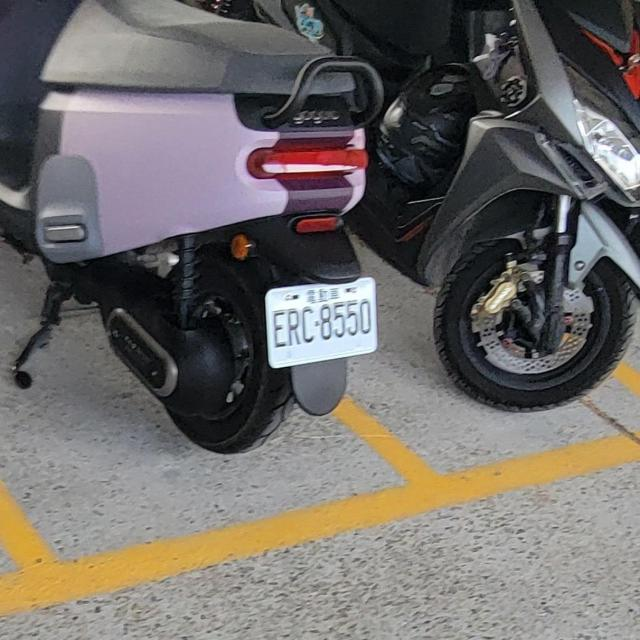W: (263, 275, 382, 368)
